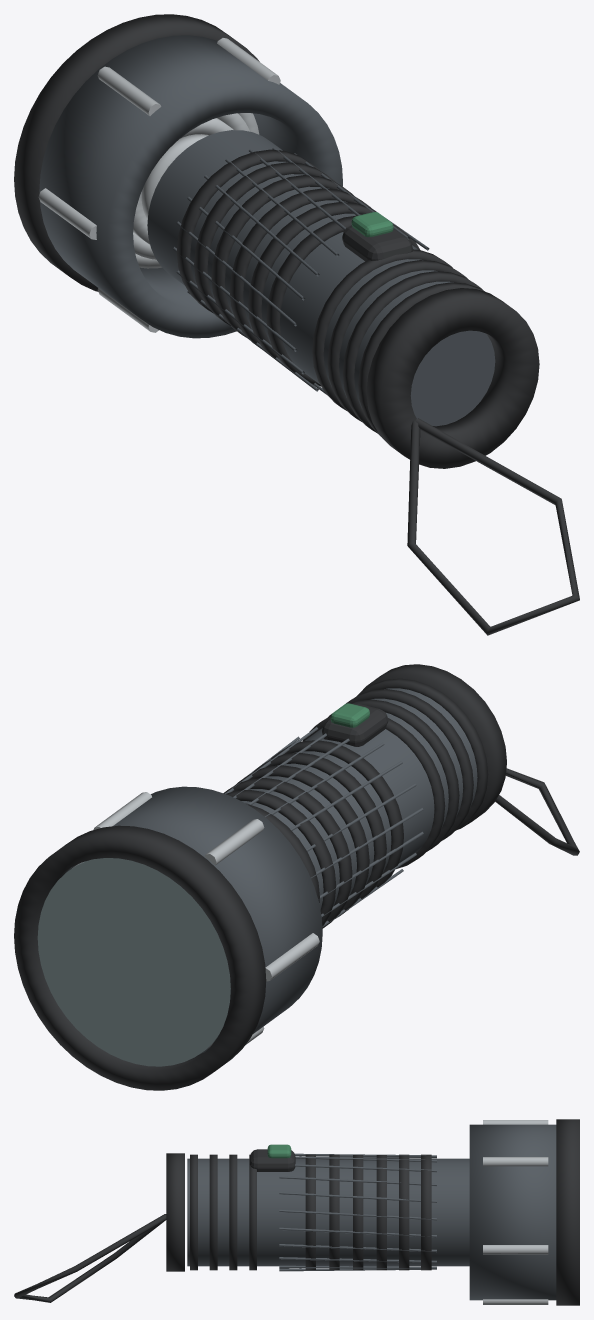
The model's file is flashlight.glb.
3 views of the same model, one above another, from view 1: azimuth 30°, elevation 25°; view 2: azimuth 150°, elevation 25°; view 3: azimuth 270°, elevation 25° (orthographic). The views are drawn at different scales.
Visible parts, largest first — view 1: flashlight; view 2: flashlight; view 3: flashlight.
Boxes of the visible parts, x1,y1,x2,y2 form: flashlight: (14, 14, 579, 635); flashlight: (14, 664, 579, 1090); flashlight: (14, 1119, 579, 1305).
Size of the model in its own units: 0.142 by 0.163 by 0.4311.
